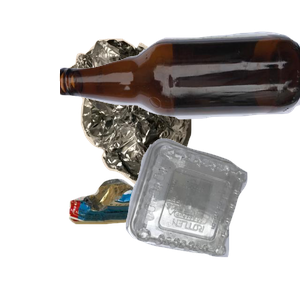glass: (60, 29, 300, 141)
metal: (57, 36, 241, 216)
plastic: (123, 136, 300, 300)
trash: (66, 173, 272, 300)
